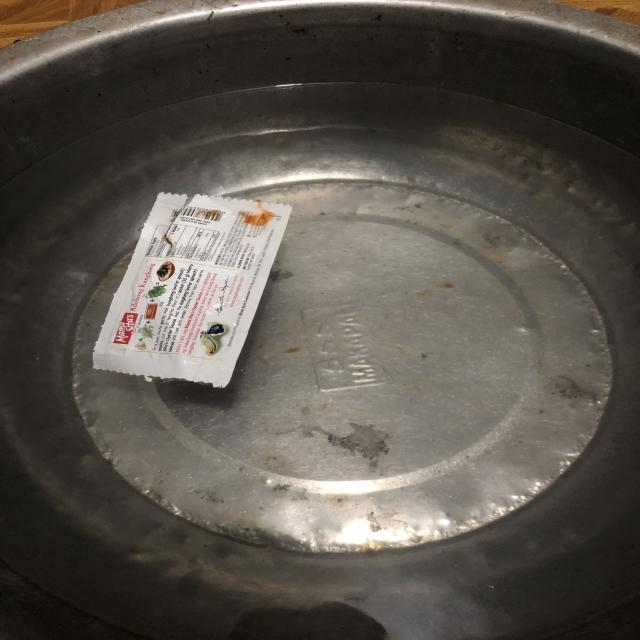Plastic Wrapper: (74, 178, 300, 391)
